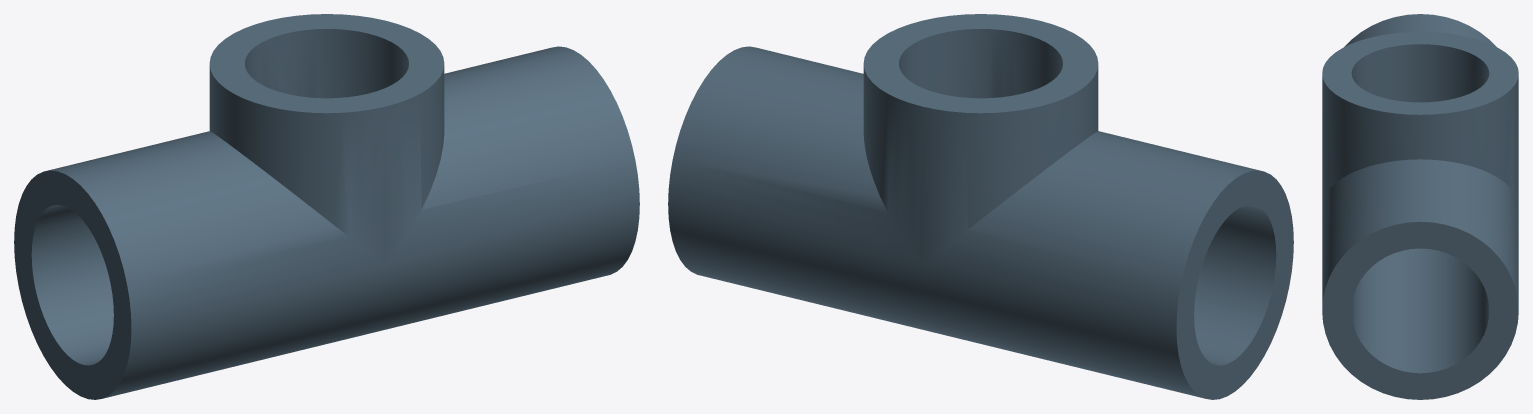
The model's file is trojnik-20x3-20x3.glb.
3 renders of one model, left to right at view 1: azimuth 30°, elevation 25°; view 2: azimuth 150°, elevation 25°; view 3: azimuth 270°, elevation 25°, orthographic. The views are drawn at different scales.
Visible parts, largest first — view 1: Open CASCADE STEP translator 7.9 33; view 2: Open CASCADE STEP translator 7.9 33; view 3: Open CASCADE STEP translator 7.9 33.
Part boxes in pixels (left/top/right/bottom): Open CASCADE STEP translator 7.9 33: left=14, top=14, right=639, bottom=399; Open CASCADE STEP translator 7.9 33: left=668, top=14, right=1293, bottom=399; Open CASCADE STEP translator 7.9 33: left=1322, top=14, right=1518, bottom=399.
Bounding box in the file's own units: 50 × 25 × 20.
